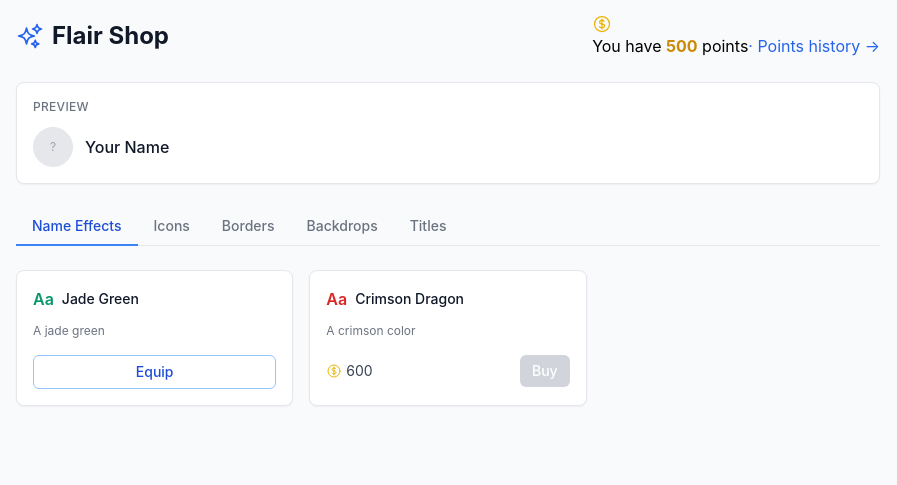
Test: Shop page › shows the error message and no success banner when equipping fails
Click the button "Equip".
click(155, 372)  # box [33,355,276,389]
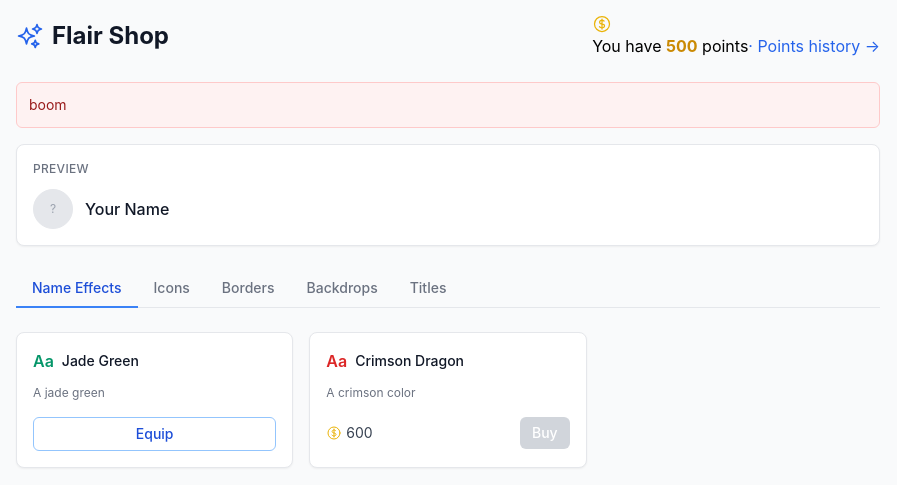
Expected: the text "boom" is shown, [16,82,880,128]
